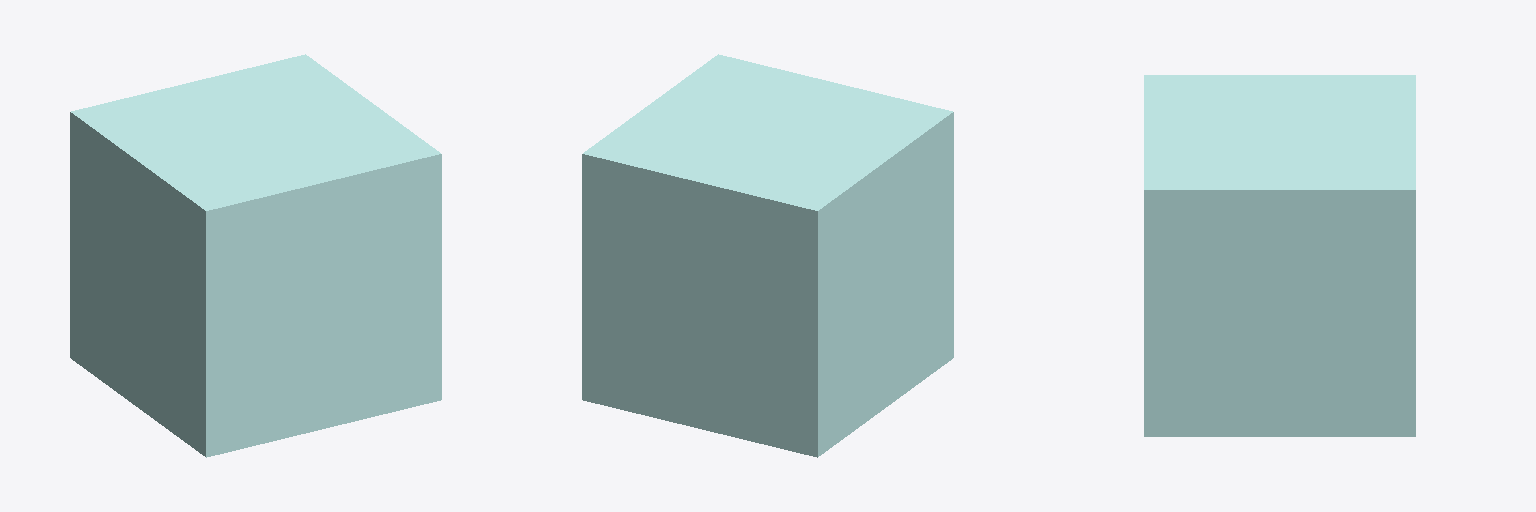
The picture shows the model from 3 angles: view 1: azimuth 30°, elevation 25°; view 2: azimuth 150°, elevation 25°; view 3: azimuth 270°, elevation 25°; orthographic projection.
Parts seen in each view (by area): view 1: object 1; view 2: object 1; view 3: object 1.
Part boxes in pixels (left/top/right/bottom): object 1: left=70, top=54, right=441, bottom=457; object 1: left=582, top=54, right=953, bottom=457; object 1: left=1144, top=75, right=1415, bottom=436.
Size of the model in its own units: 4 by 4 by 4.
Materials: 1 (1 with a texture image).